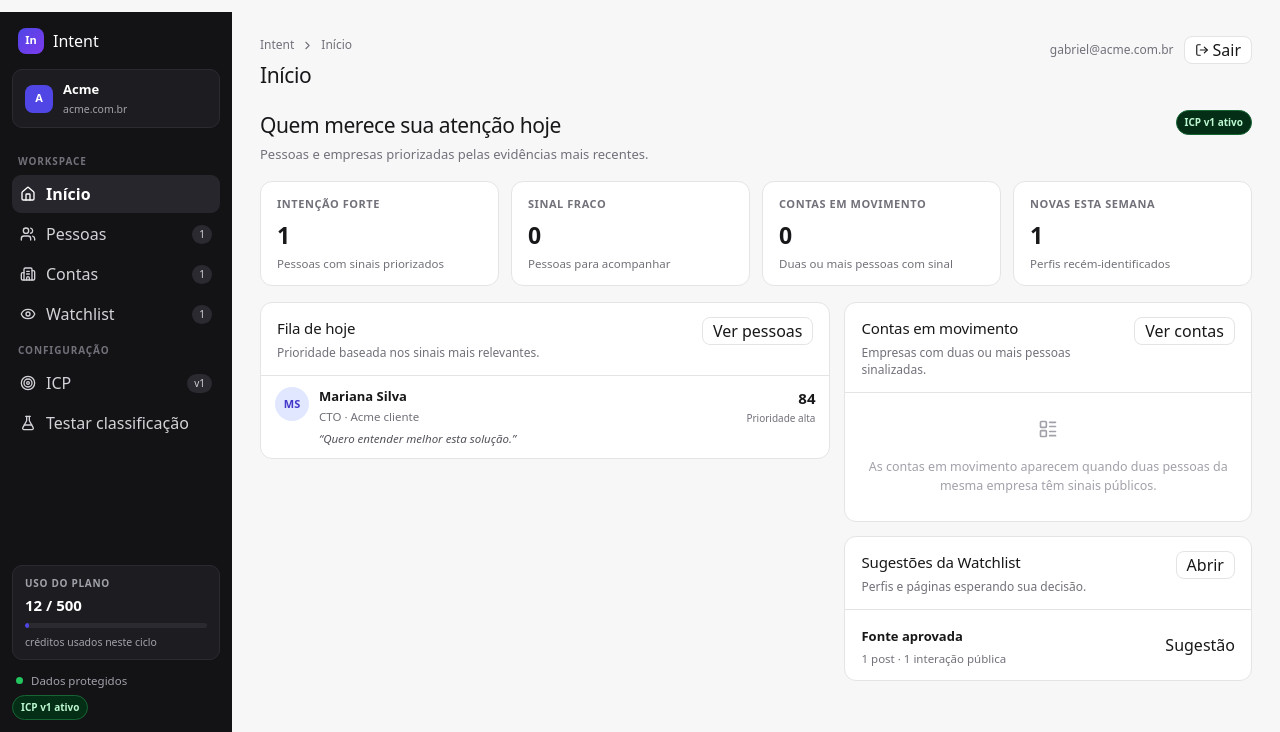
Test: IntentV1Workspace › navigates through people, accounts, watchlist and ICP without legacy routes
Expected: the heading "Início" is shown, [260,61,311,89]
Click the button "Pessoas 1" at x=116, y=234, box [12,215,220,253]
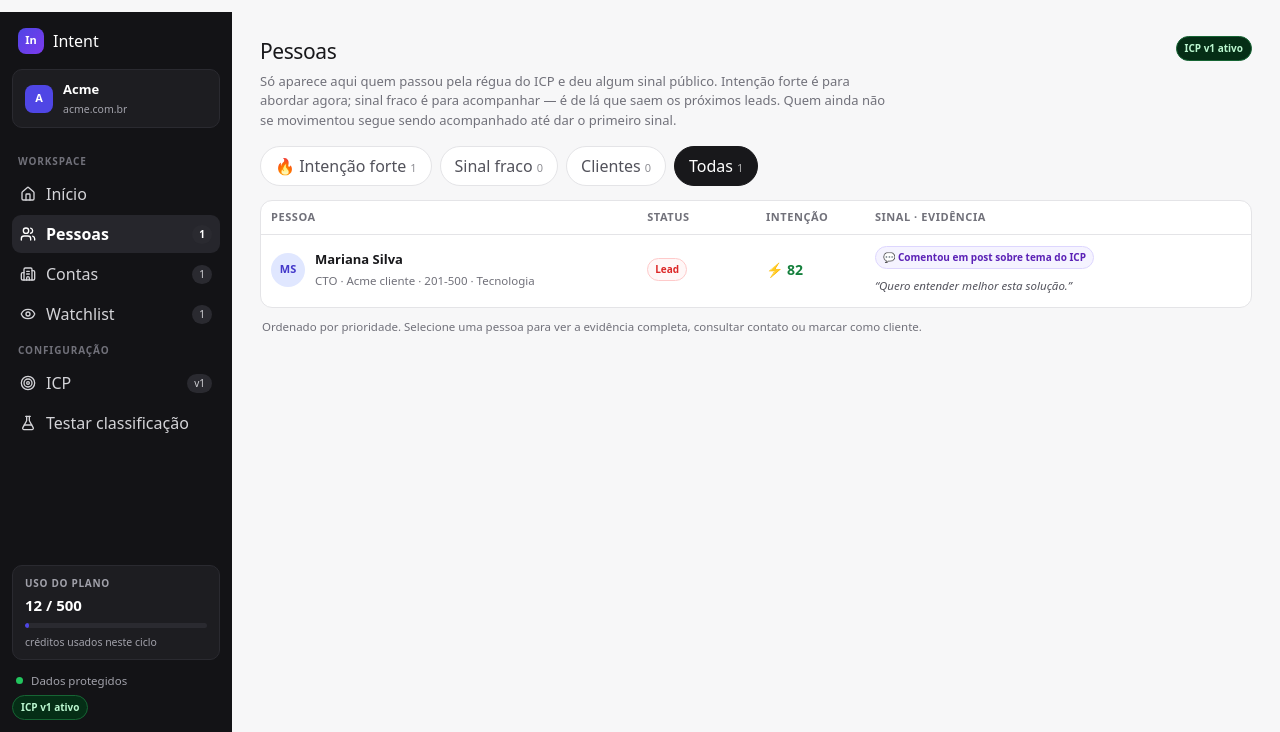
Expected: the text "Mariana Silva" is shown, [315,250,403,268]
Expected: the heading "Pessoas" is shown, [260,37,336,65]
Click the button "Contas 1" at x=116, y=274, box [12,255,220,293]
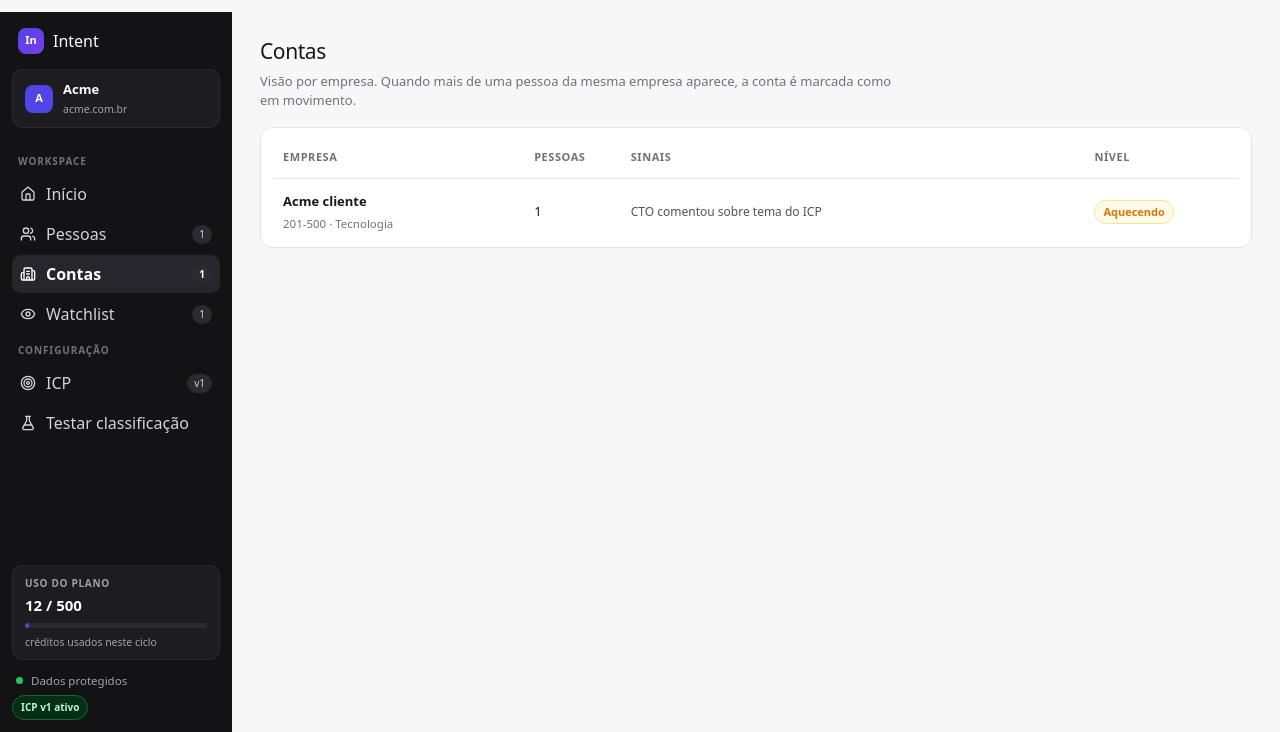
Expected: the heading "Contas" is shown, [260,37,326,65]
Expected: the text "Visão por empresa. Quando mais de uma pessoa da mesma empresa aparece, a conta é marcada como em movimento." is shown, [260,72,891,109]
Expected: the column heading "Empresa" is shown, [273,136,524,178]
Click the button "Watchlist 1" at x=116, y=314, box [12,295,220,333]
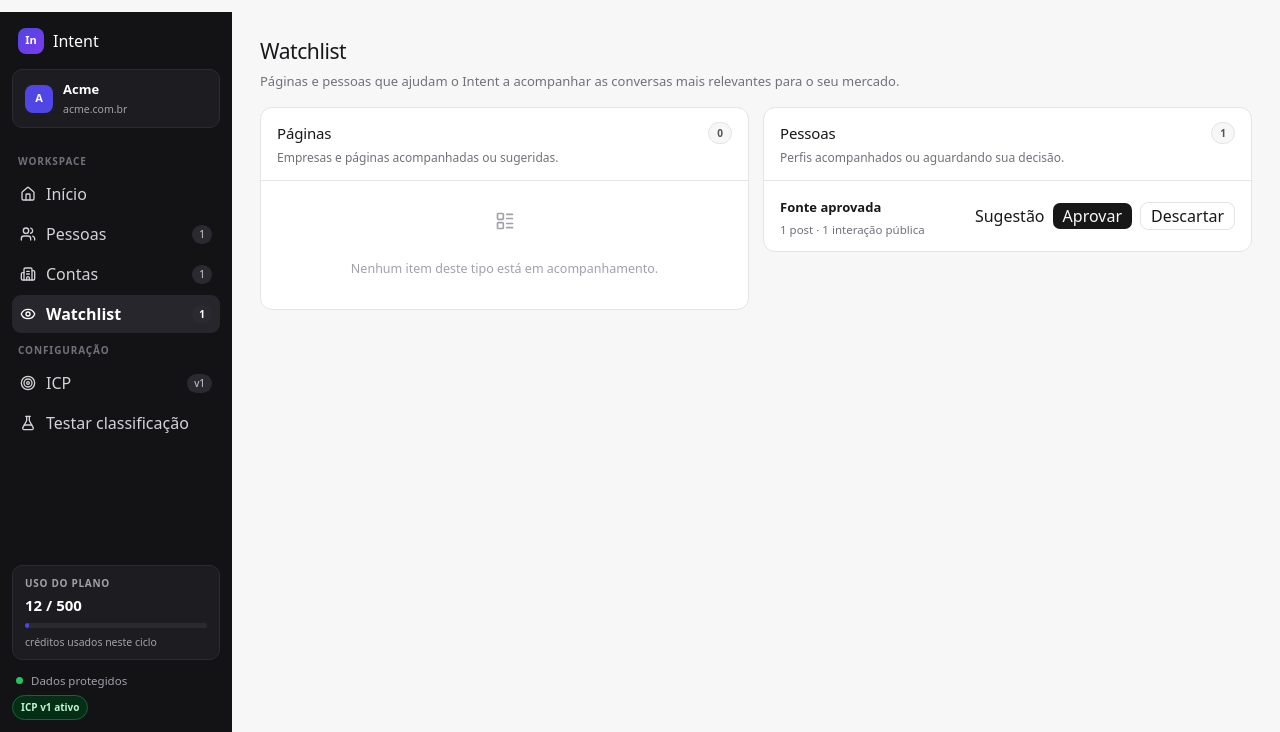
Expected: the heading "Watchlist" is shown, [260,37,346,65]
Expected: the text "Fonte aprovada" is shown, [780,198,881,216]
Expected: the text "1 post · 1 interação pública" is shown, [780,221,925,238]
